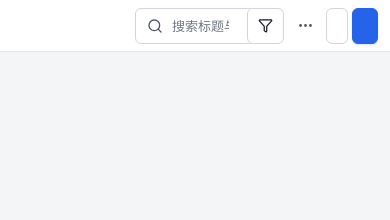
Scenario: AppTopbar › opens compact filter popover
Click the 1st button. click: (266, 26)
box: left=247, top=8, right=284, bottom=44
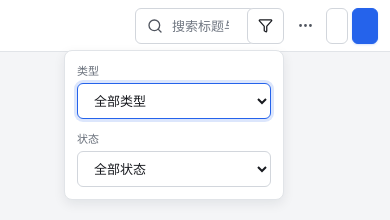
Result: the element with id "entry-filter-popover" is shown at left=64, top=50, right=284, bottom=200
